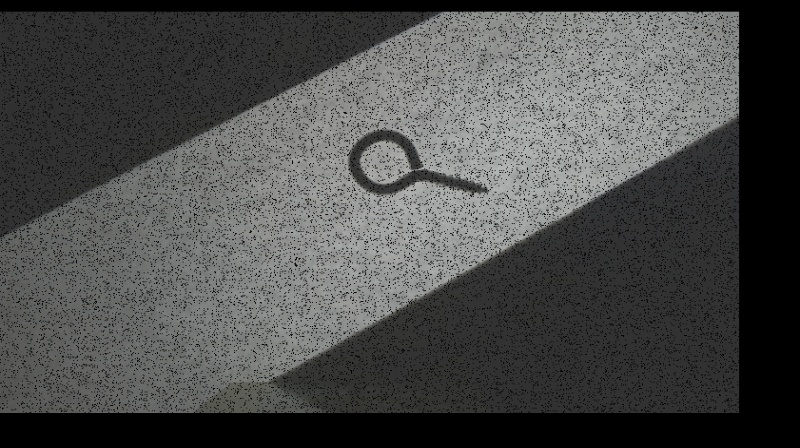O001: (345, 126, 495, 198)
